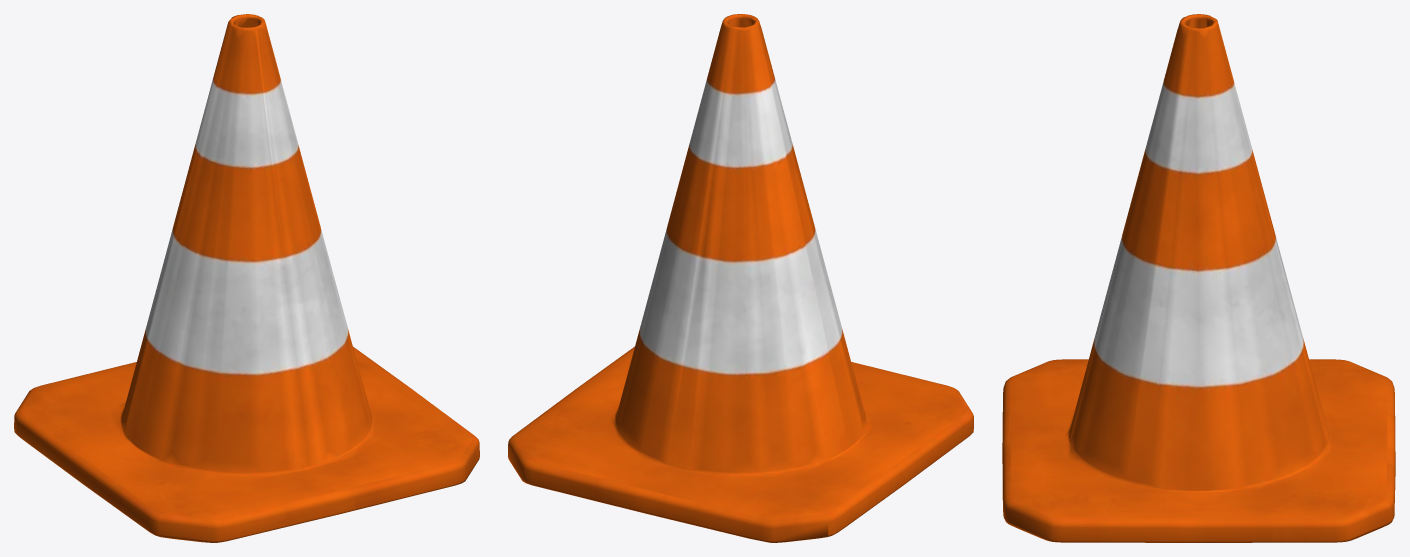
File: traffic-cone.glb
3 views of the same model, side by side, from view 1: azimuth 30°, elevation 25°; view 2: azimuth 150°, elevation 25°; view 3: azimuth 270°, elevation 25° (orthographic). The views are drawn at different scales.
Parts seen in each view (by area): view 1: Cone Normal; view 2: Cone Normal; view 3: Cone Normal.
Boxes of the visible parts, box(x1,y1,x2,y2) form: Cone Normal: box(14, 14, 479, 542); Cone Normal: box(508, 14, 973, 542); Cone Normal: box(1002, 14, 1395, 542).
Bounding box in the file's own units: 0.42 × 0.5188 × 0.42.
1 material, 1 textured.
